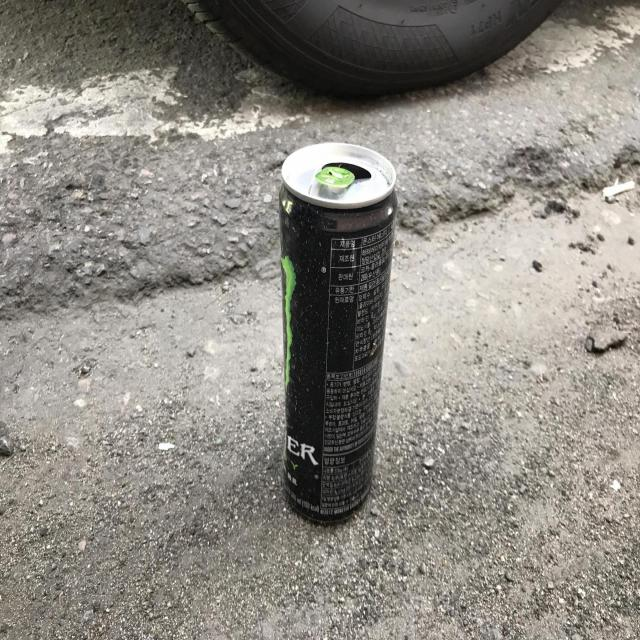can: (279, 142, 397, 523)
